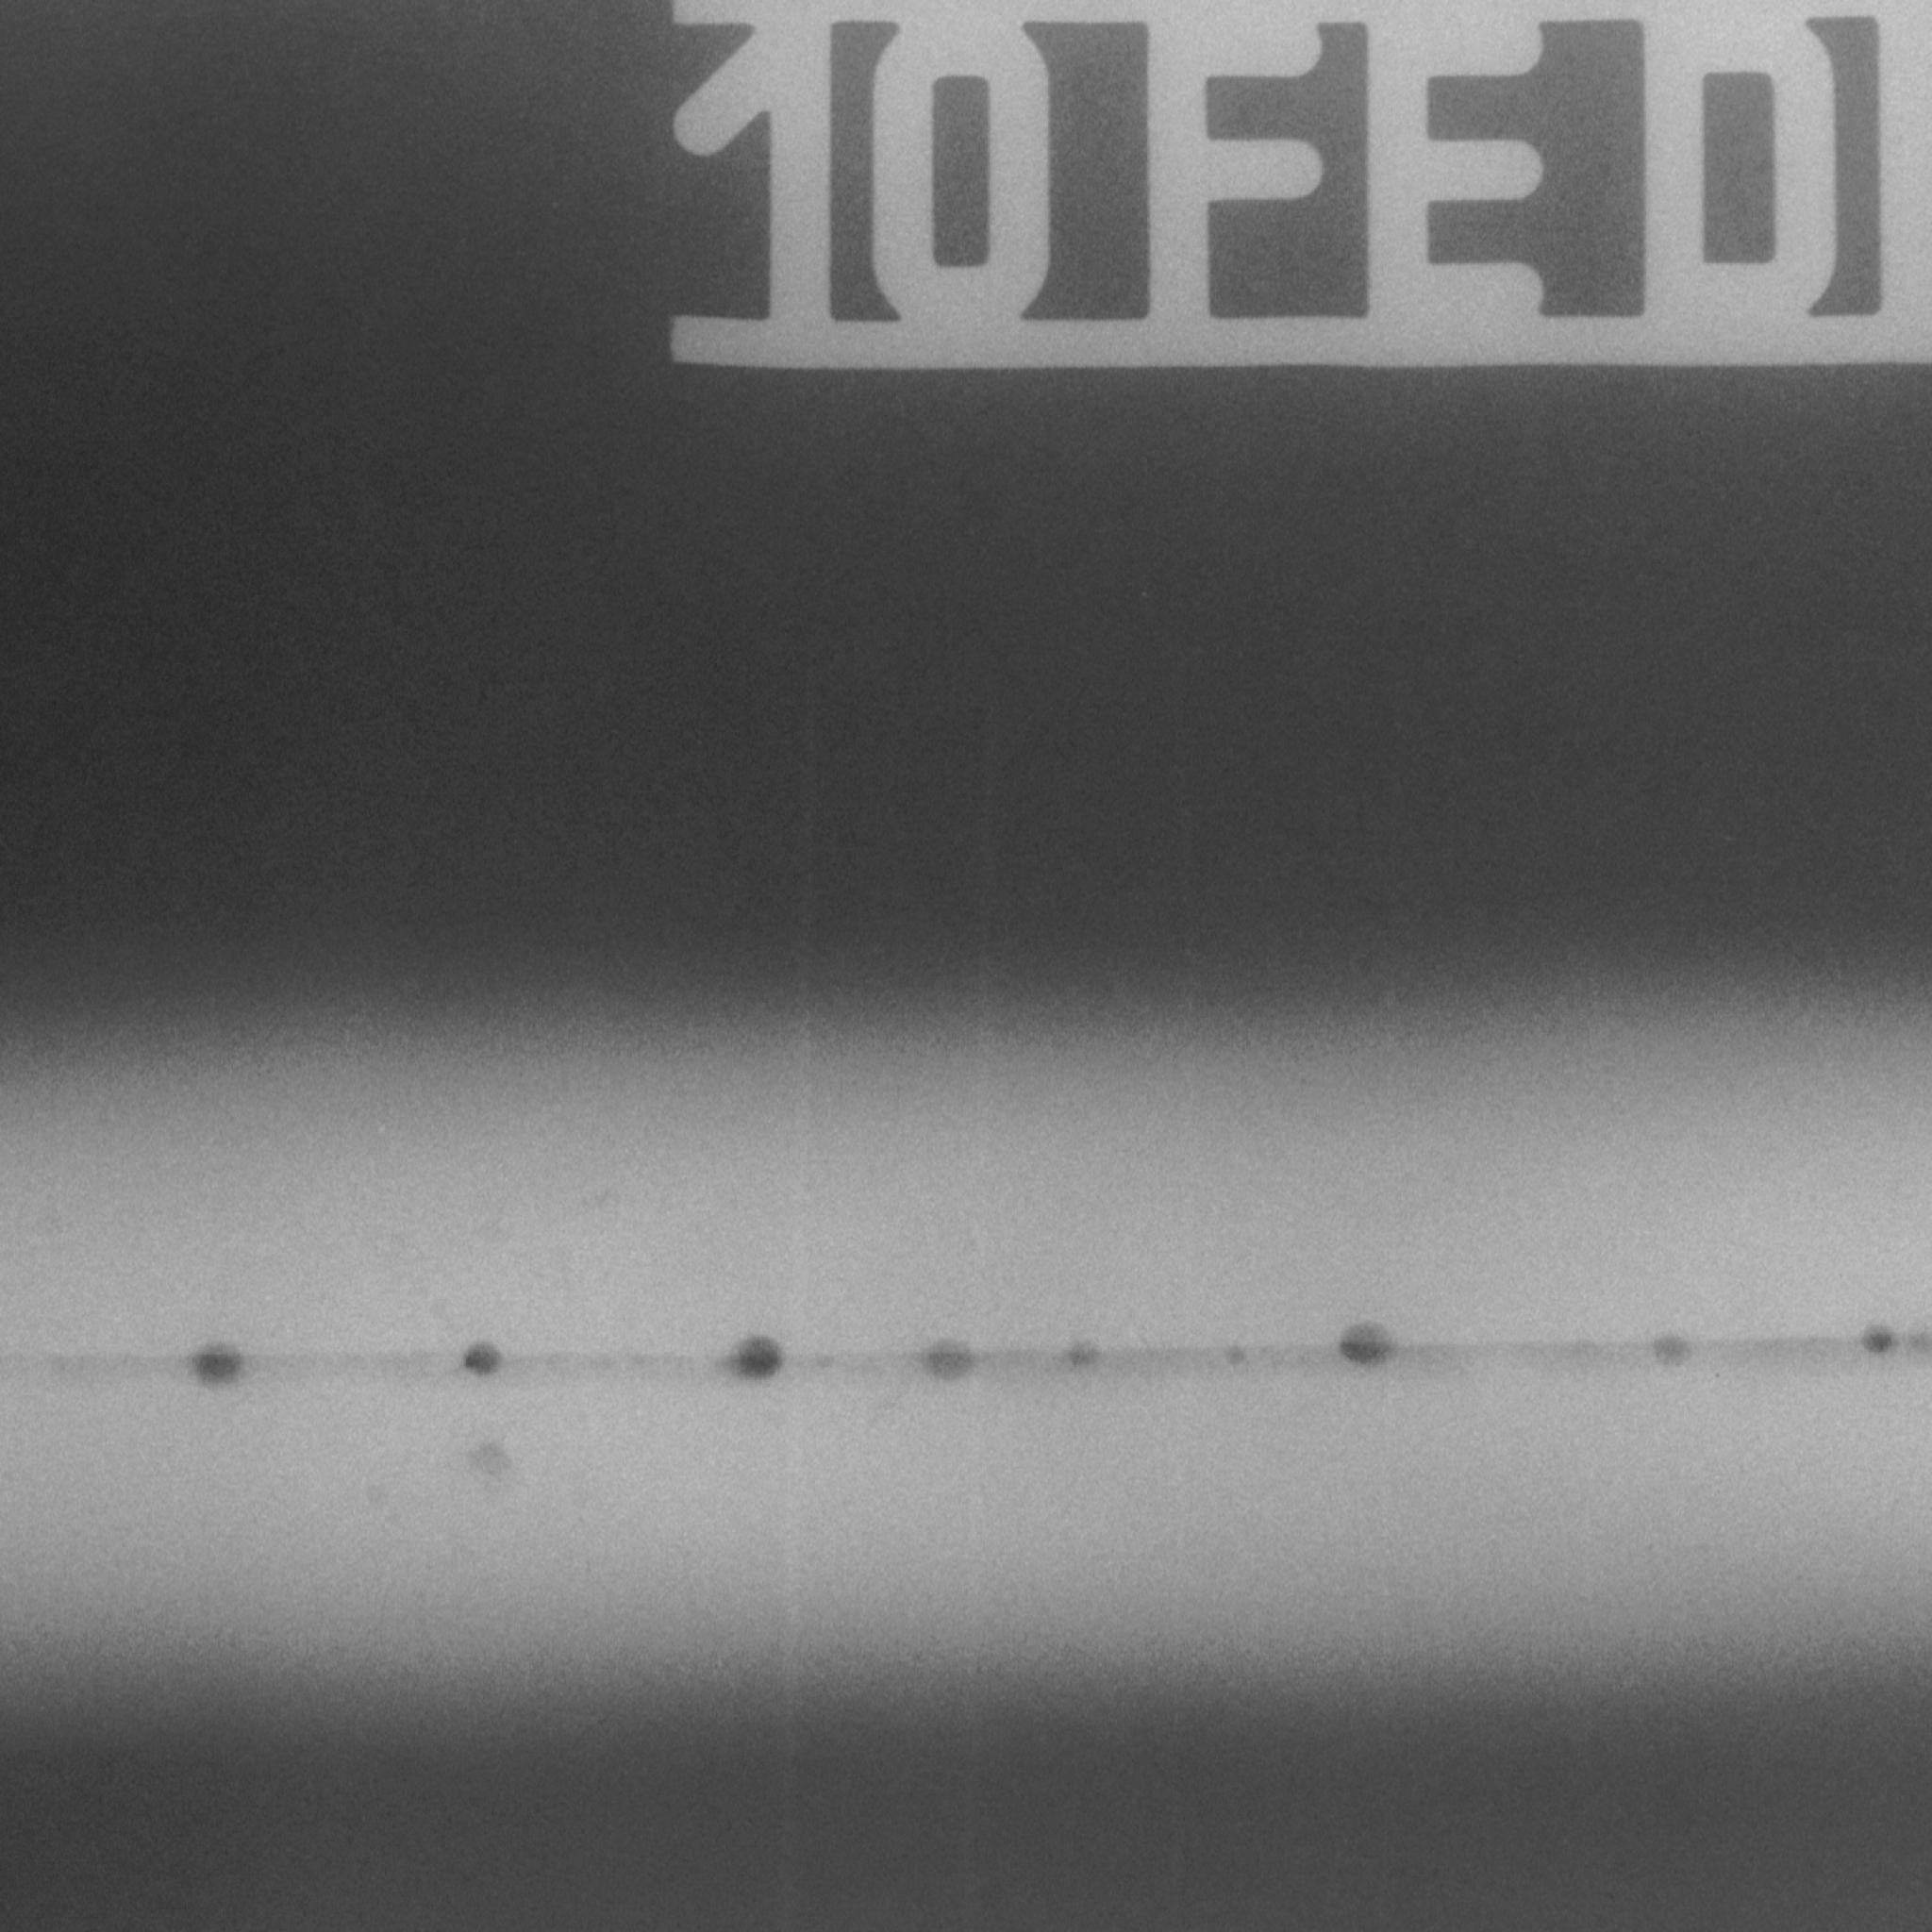Solda Ruim: (0, 1218, 1932, 1483)
